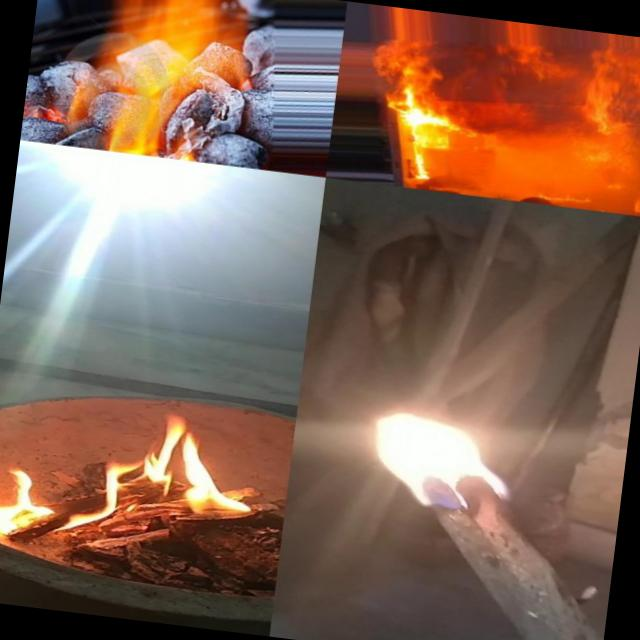fire: (0, 396, 262, 568), (347, 374, 571, 526), (59, 0, 252, 164), (388, 87, 468, 185), (581, 54, 640, 144), (535, 187, 592, 207), (632, 182, 640, 214)
smoke: (464, 64, 582, 142)
